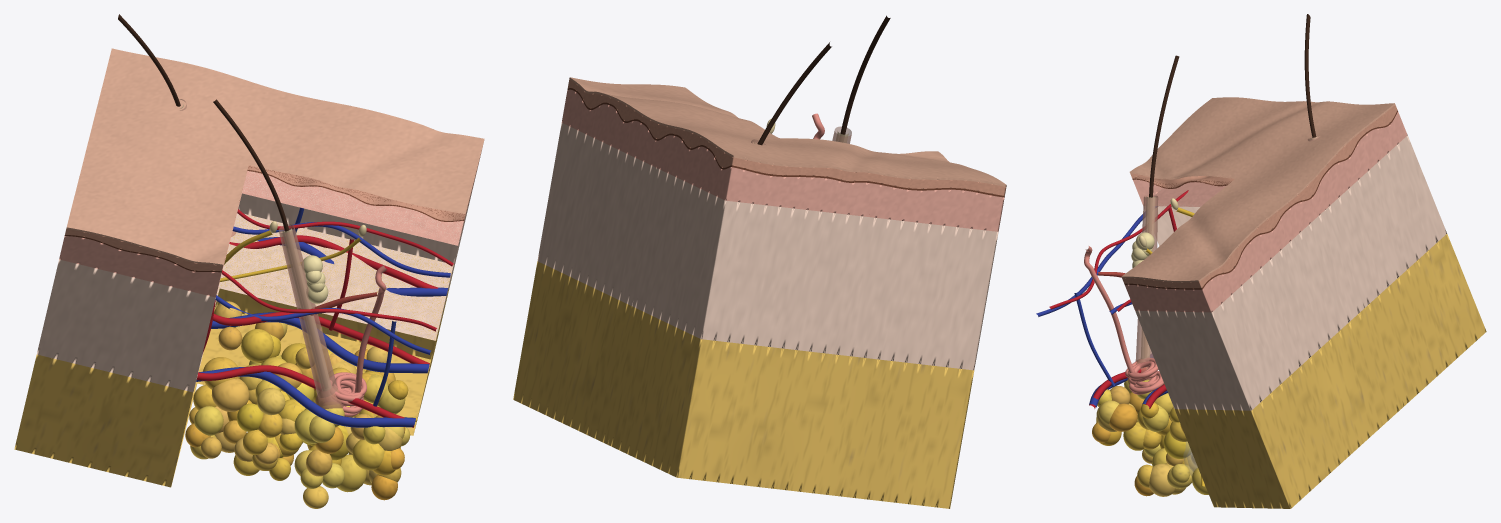
The model's file is x-skin.3fa98763.glb.
3 renders of one model, left to right at view 1: azimuth 30°, elevation 25°; view 2: azimuth 150°, elevation 25°; view 3: azimuth 270°, elevation 25°, orthographic. The views are drawn at different scales.
Visible parts, largest first — view 1: Epidermis, Fat layer, Dermis, Veins, Arteries, Hair follicle, Sweat gland, Hair, Oil gland, Basal layer, Nerves; view 2: Dermis, Fat layer, Epidermis, Hair, Basal layer; view 3: Dermis, Fat layer, Epidermis, Sweat gland, Veins, Arteries, Hair, Hair follicle, Basal layer.
Boxes of the visible parts, <box> form: Epidermis: <box>65,48,484,271</box>; Fat layer: <box>14,215,453,508</box>; Dermis: <box>36,157,480,392</box>; Veins: <box>196,207,450,427</box>; Arteries: <box>196,209,453,427</box>; Hair follicle: <box>179,99,337,402</box>; Sweat gland: <box>330,265,387,416</box>; Hair: <box>118,14,289,232</box>; Oil gland: <box>301,255,328,303</box>; Basal layer: <box>64,166,464,272</box>; Nerves: <box>220,230,417,421</box>; Dermis: <box>537,89,1004,370</box>; Fat layer: <box>513,261,974,508</box>; Epidermis: <box>568,77,1006,195</box>; Hair: <box>757,15,890,145</box>; Basal layer: <box>567,88,1004,197</box>; Dermis: <box>1125,111,1446,410</box>; Fat layer: <box>1092,234,1486,508</box>; Epidermis: <box>1121,97,1397,288</box>; Sweat gland: <box>1084,246,1163,394</box>; Veins: <box>1036,206,1167,408</box>; Arteries: <box>1049,190,1188,408</box>; Hair: <box>1149,14,1316,197</box>; Hair follicle: <box>1135,136,1319,362</box>; Basal layer: <box>1124,110,1397,289</box>.
Size of the model in its own units: 0.278 by 0.2979 by 0.3.
